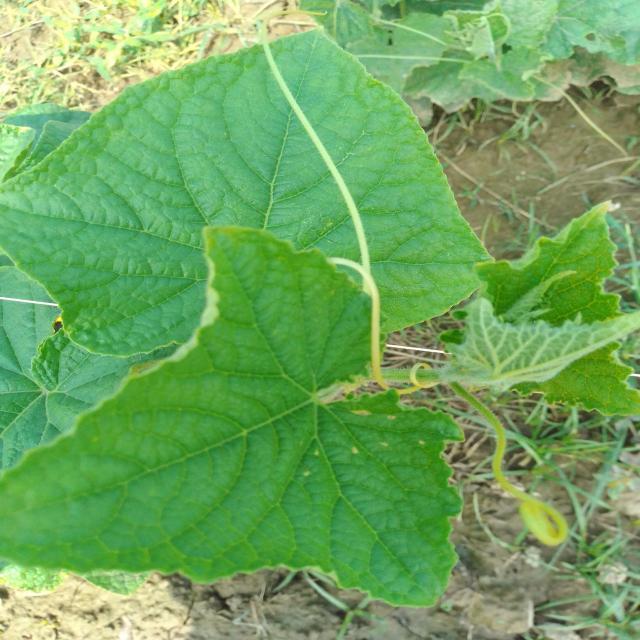cucumber_healthy: (2, 218, 467, 634), (0, 22, 497, 357), (443, 196, 640, 438), (293, 0, 640, 129)
